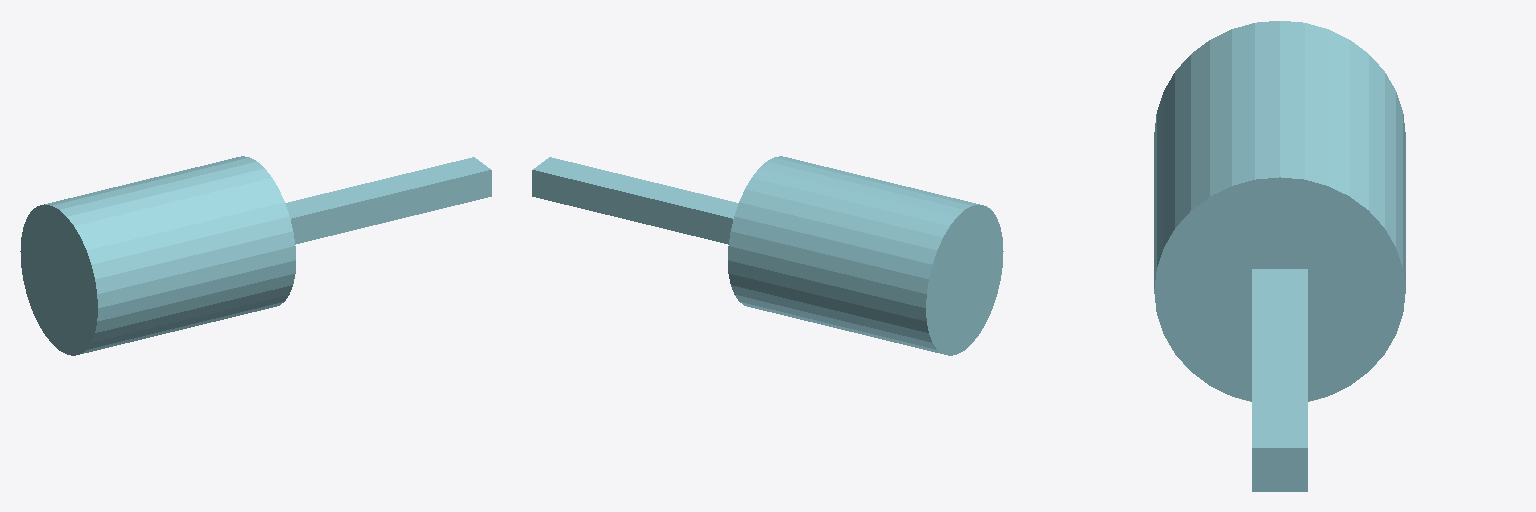
The robot description file, URDF, robot "cylinder_screwdriver_v3005":
<?xml version="1.0"?>
<robot name="cylinder_screwdriver_v3005">

  <link name="cylinder_screwdriver_v3005">
    <!-- Handle -->
    <visual>
      <origin xyz="0 0 0" rpy="0 1.5707963267948966 0"/>
      <geometry>
        <cylinder length="0.08831962249131237" radius="0.029912433466188184"/>
      </geometry>
      <material name="material">
        <color rgba="0.639 0.847 0.882 1.0"/>
      </material>
    </visual>
    <collision>
      <origin xyz="0 0 0" rpy="0 1.5707963267948966 0"/>
      <geometry>
        <cylinder length="0.08831962249131237" radius="0.029912433466188184"/>
      </geometry>
    </collision>

    <!-- Head -->
    <visual>
      <origin xyz="0.09433837443473334 0 0" rpy="0 0 0"/>
      <geometry>
        <box size="0.10035712637815432 0.013428716727279726 0.011484382372856426"/>
      </geometry>
      <material name="material">
        <color rgba="0.639 0.847 0.882 1.0"/>
      </material>
    </visual>
    <collision>
      <origin xyz="0.09433837443473334 0 0" rpy="0 0 0"/>
      <geometry>
        <box size="0.10035712637815432 0.013428716727279726 0.011484382372856426"/>
      </geometry>
    </collision>

    <inertial>
      <density value="400.0"/>
    </inertial>
  </link>

</robot>

--- What the picture shows (computed from the rendered views, not written in the file) ---
Views: 3 orthographic renders of the robot side by side, from view 1: azimuth 30°, elevation 25°; view 2: azimuth 150°, elevation 25°; view 3: azimuth 270°, elevation 25°.
Model cylinder_screwdriver_v3005 with 1 links and 0 joints (none), rooted at cylinder_screwdriver_v3005, posed all joints at 0.
Visible links, largest first — view 1: cylinder_screwdriver_v3005; view 2: cylinder_screwdriver_v3005; view 3: cylinder_screwdriver_v3005.
Link boxes in pixels (box(x1,y1,x2,y2)): cylinder_screwdriver_v3005: box(20, 156, 491, 355); cylinder_screwdriver_v3005: box(532, 156, 1003, 355); cylinder_screwdriver_v3005: box(1154, 21, 1405, 491).
Size in the robot's own frame: 0.1887 by 0.0598 by 0.0598 metres.
Geometry: primitives only (box / cylinder / sphere), no mesh files.
